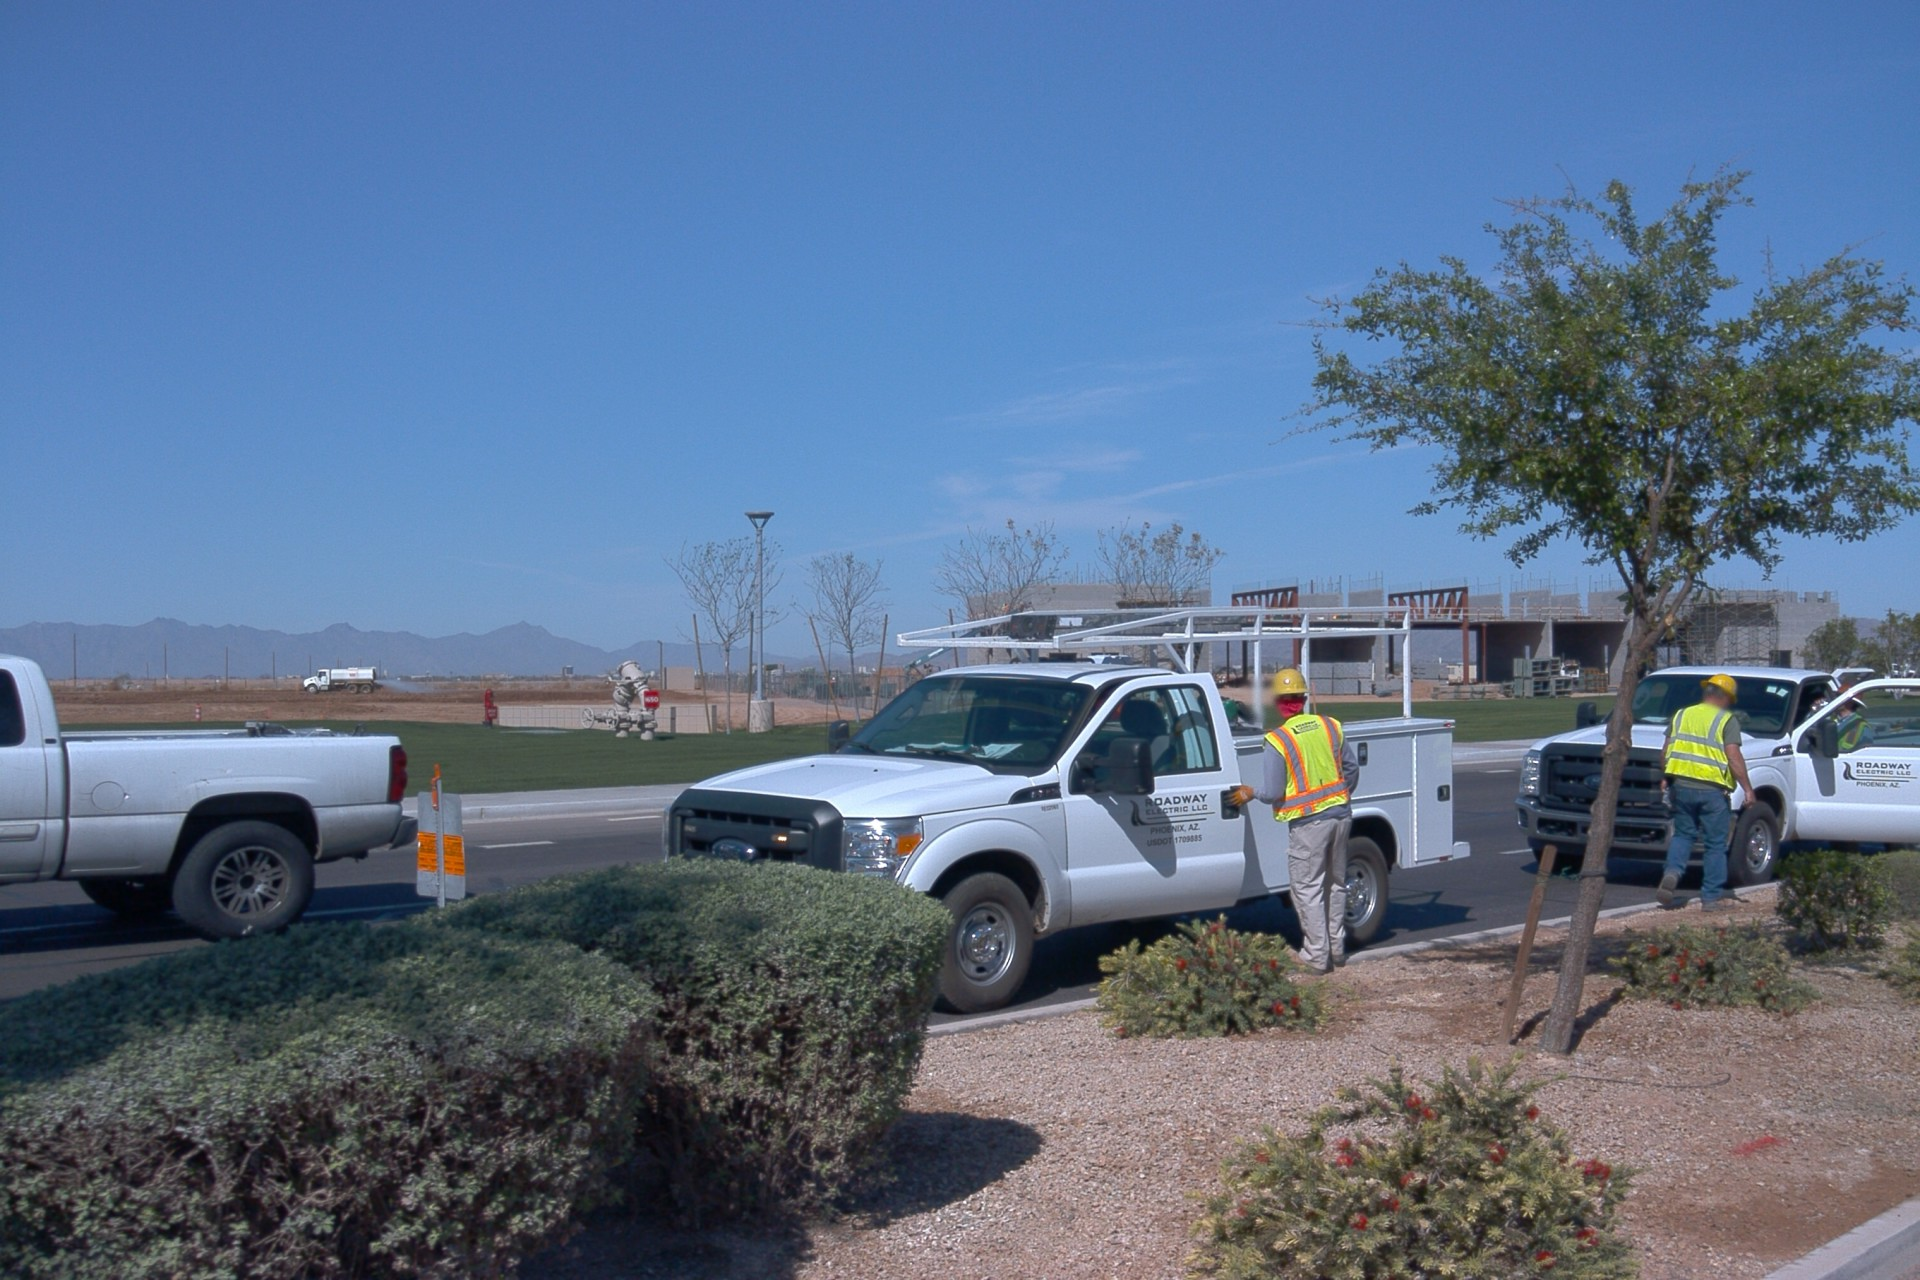TYPE_PEDESTRIAN: (1225, 663, 1363, 979), (1655, 669, 1758, 912), (1808, 676, 1875, 863)
TYPE_VEHICLE: (659, 601, 1472, 1013), (0, 655, 423, 952), (1512, 663, 1920, 892), (903, 601, 1031, 692), (297, 661, 381, 703), (1884, 671, 1918, 693), (1210, 668, 1239, 686), (1887, 667, 1918, 682)
